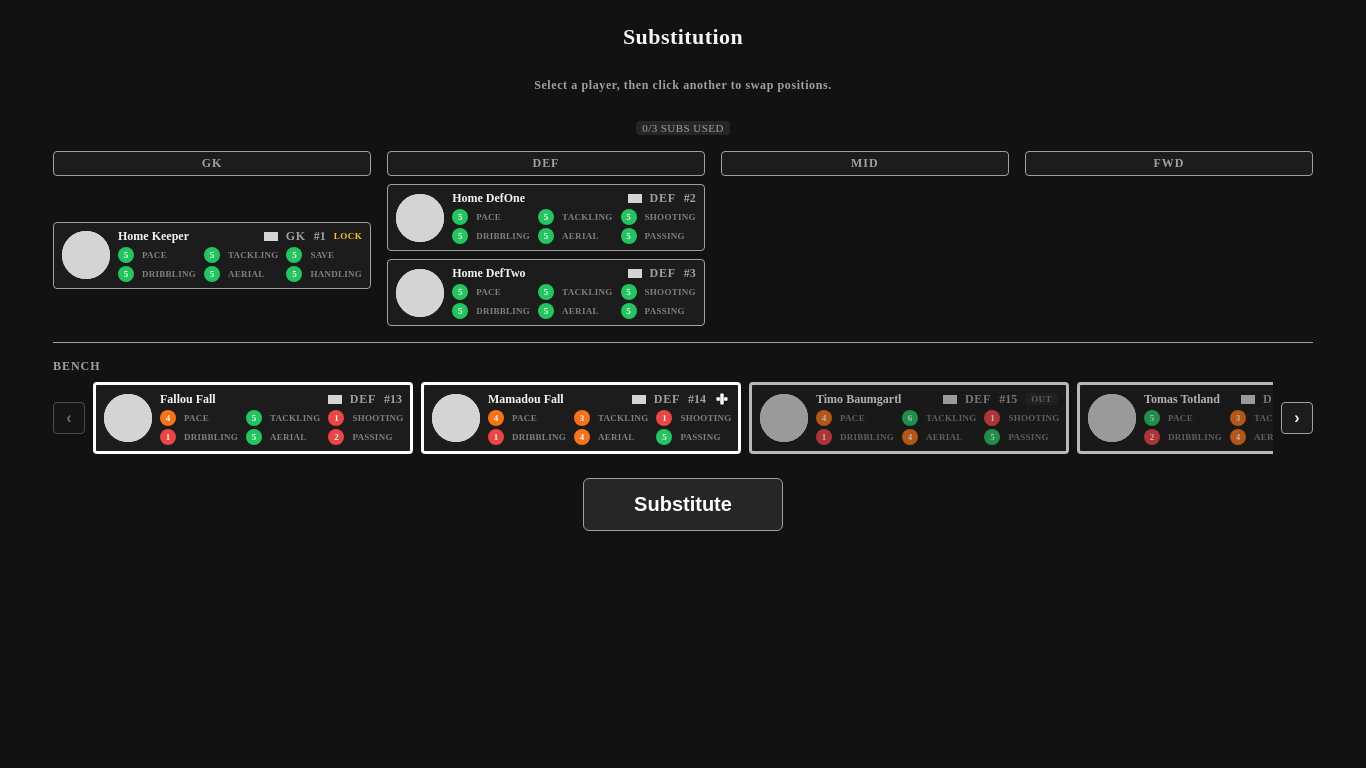
Test case: Bench badge regression — Phase 42 rework (D-07/SUB-18) › bench badges are unaffected by an open substitution-confirm popup
Click the button with aria-label "Enter substitution mode". click: (683, 505)
box: top-left (583, 478), bottom-right (783, 531)
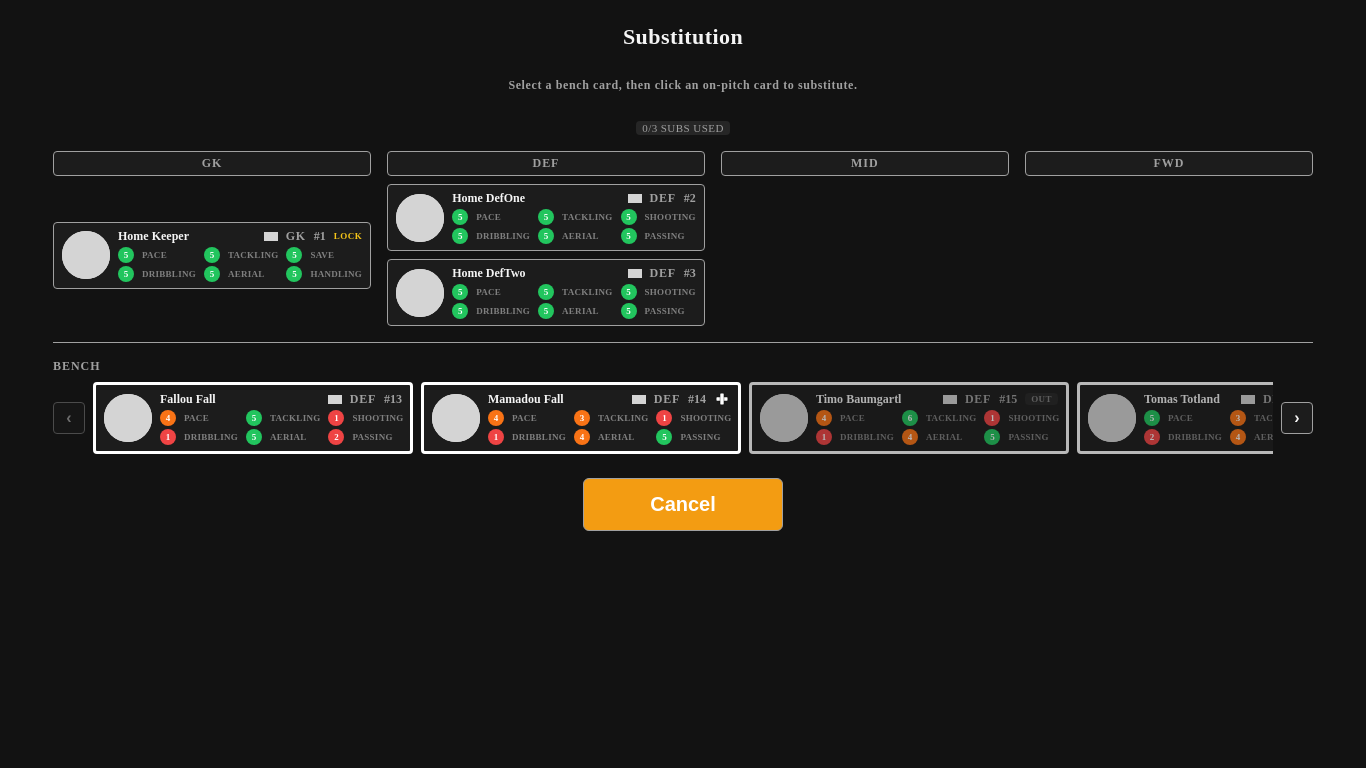
Click the button "Fallou Fall". click: (253, 418)
box: top-left (93, 382), bottom-right (413, 454)
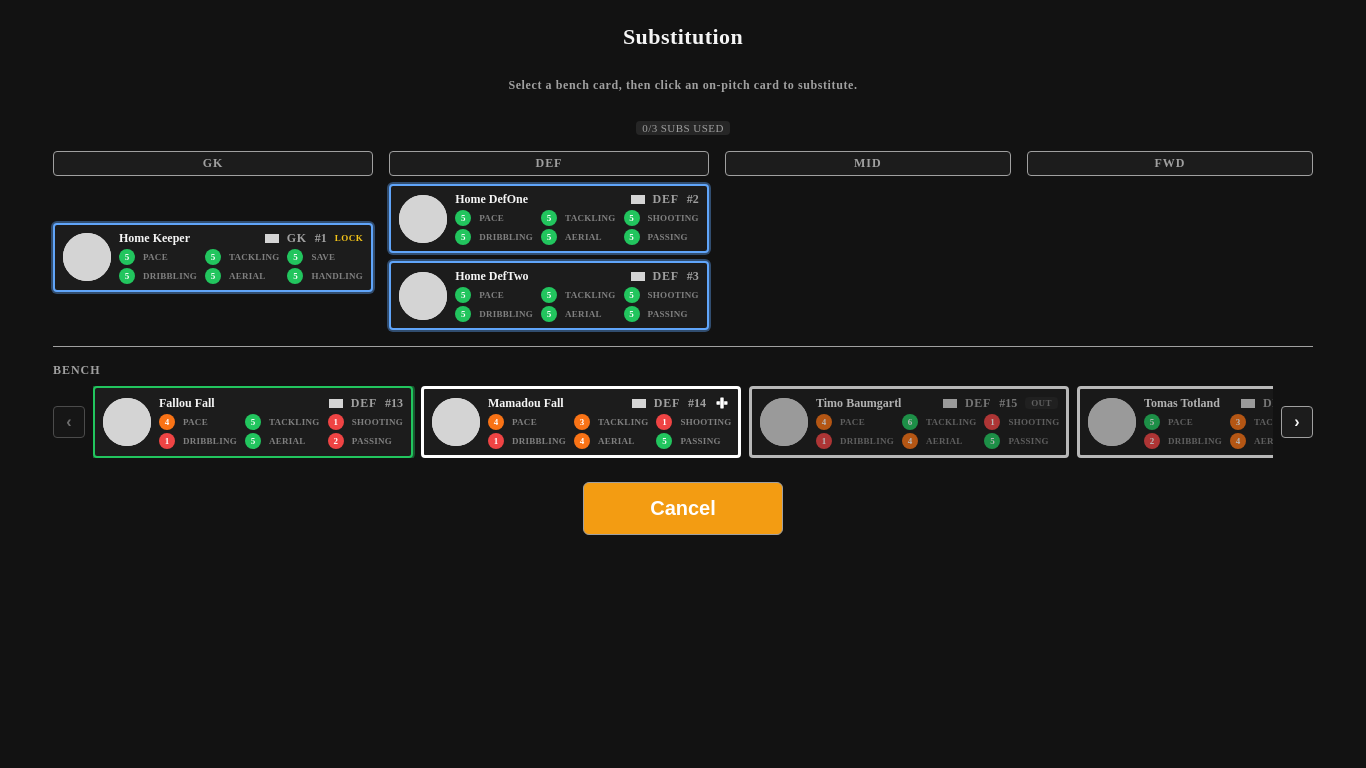
Click the button "Home DefOne". click: (549, 219)
box: top-left (389, 184), bottom-right (709, 253)
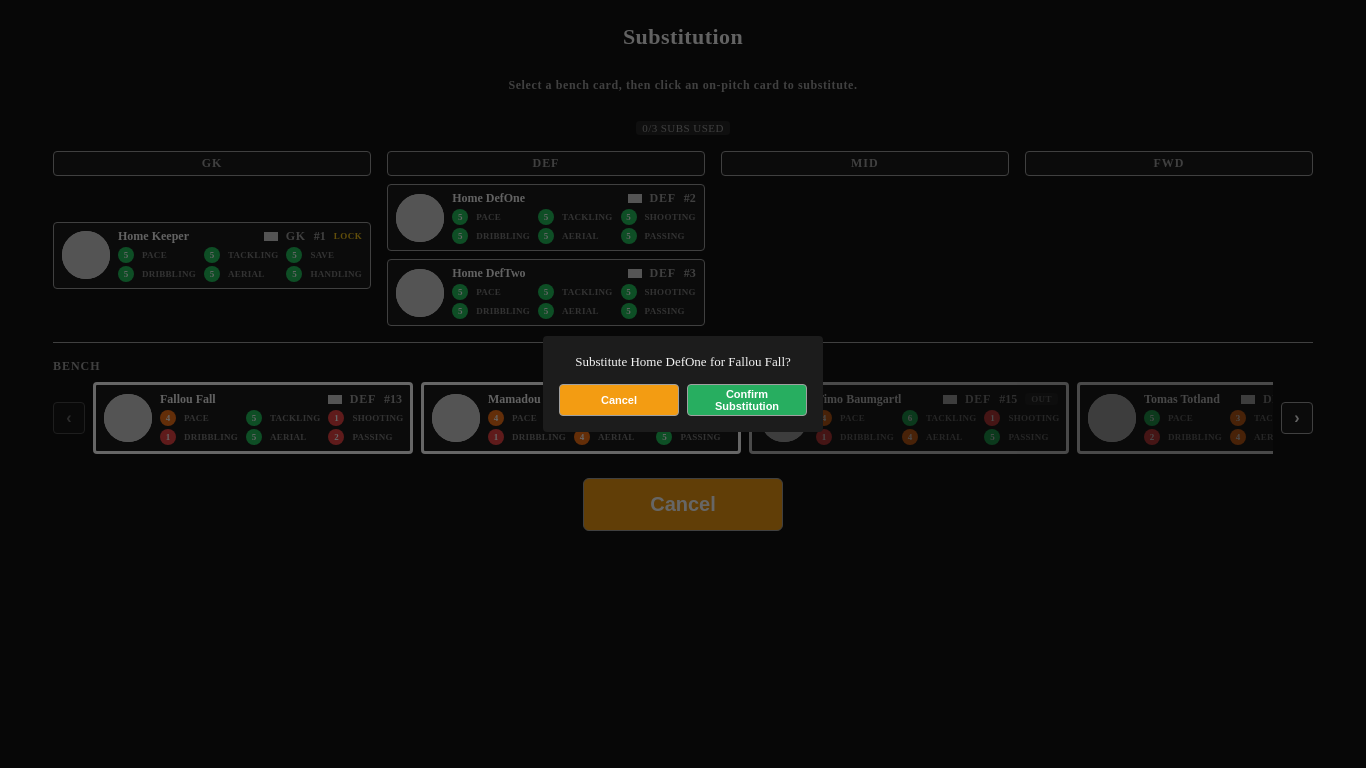
Expected: the element with test id "bench-red-card-badge" is shown, top-left (1077, 382), bottom-right (1273, 454)
Result: the dialog is shown
